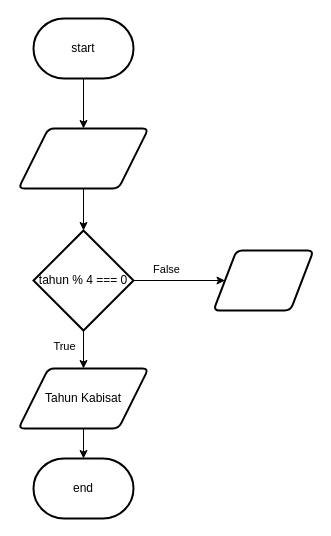
Some shapes in this 331 by 536 pixel diagram are drawn without their labels. Here are the shapes that lost their labels. From the top down, the centre of each, then its label:
At (x=83, y=158): "Masukkan tahun".
At (x=263, y=280): "Bukan Tahun Kabisat".
